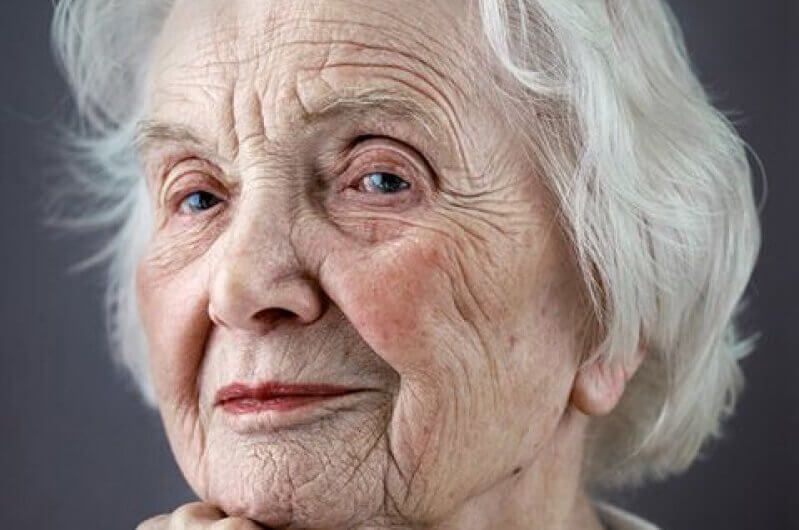without_mask: (117, 93, 572, 518)
